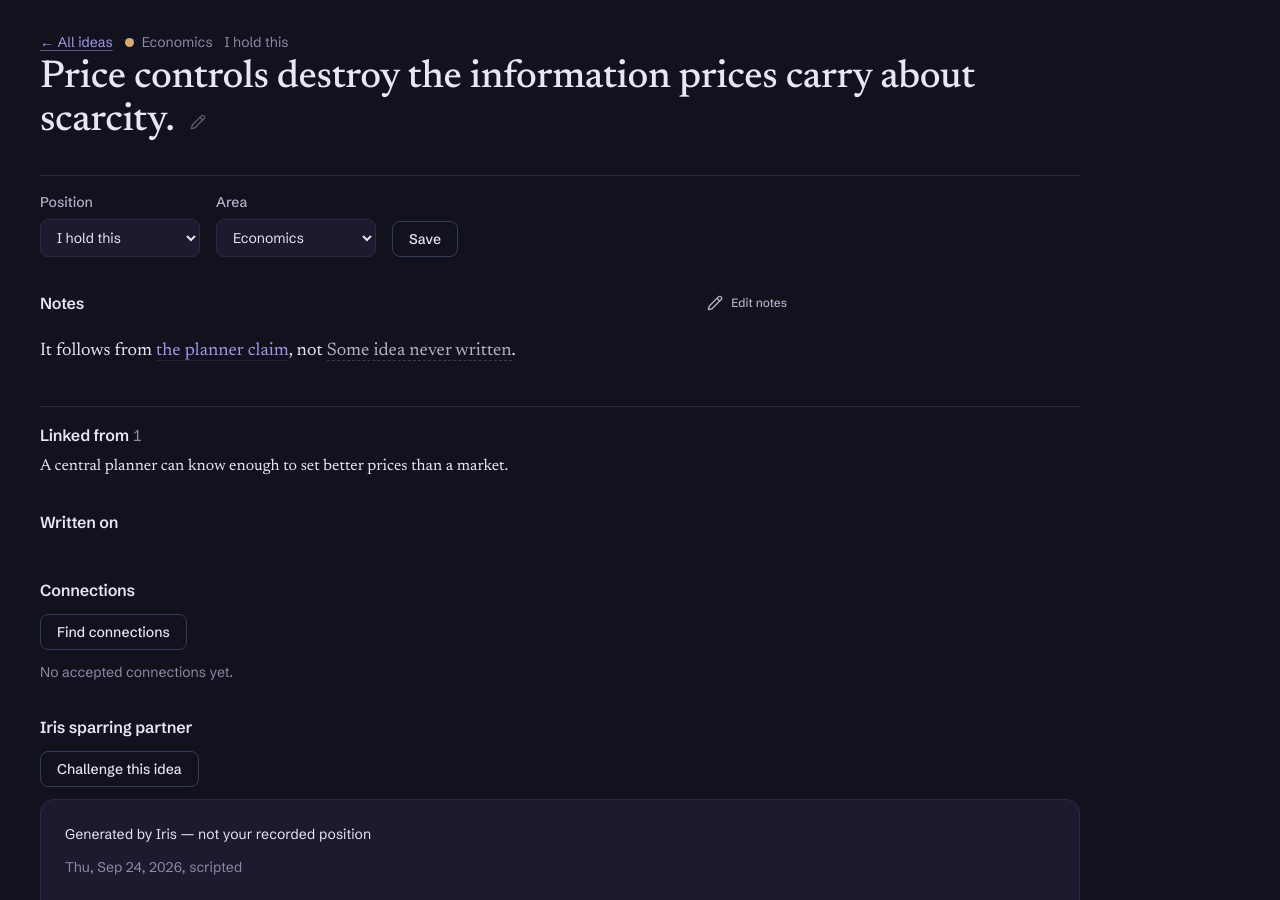
Test case: a proposed link between two ideas › keeps the old wording when renaming is cancelled
Click the button named "Rename this idea" at point(198, 122), box [182,106,214,138]
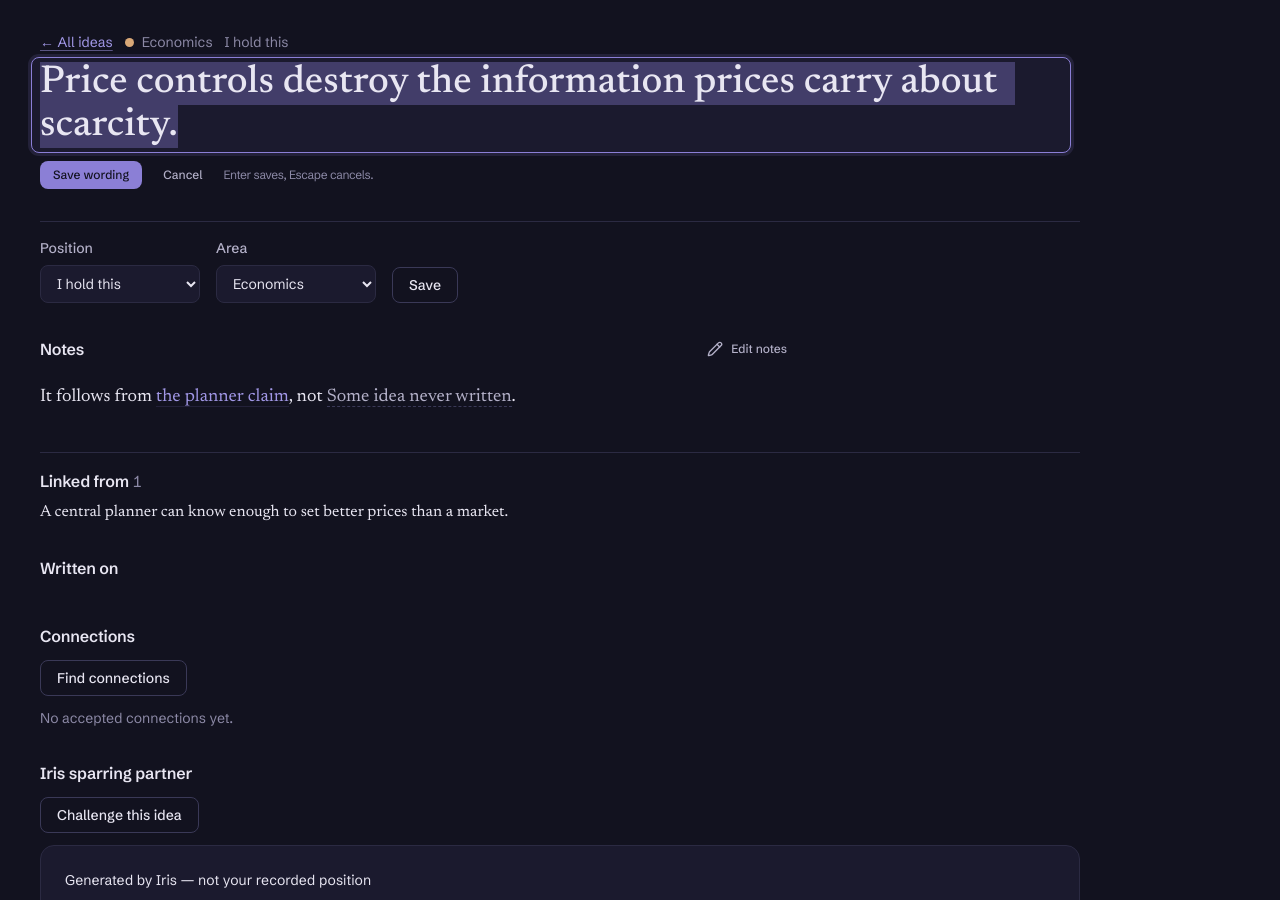
Press Escape in the text box named "Wording of this idea", box [31,57,1071,153]
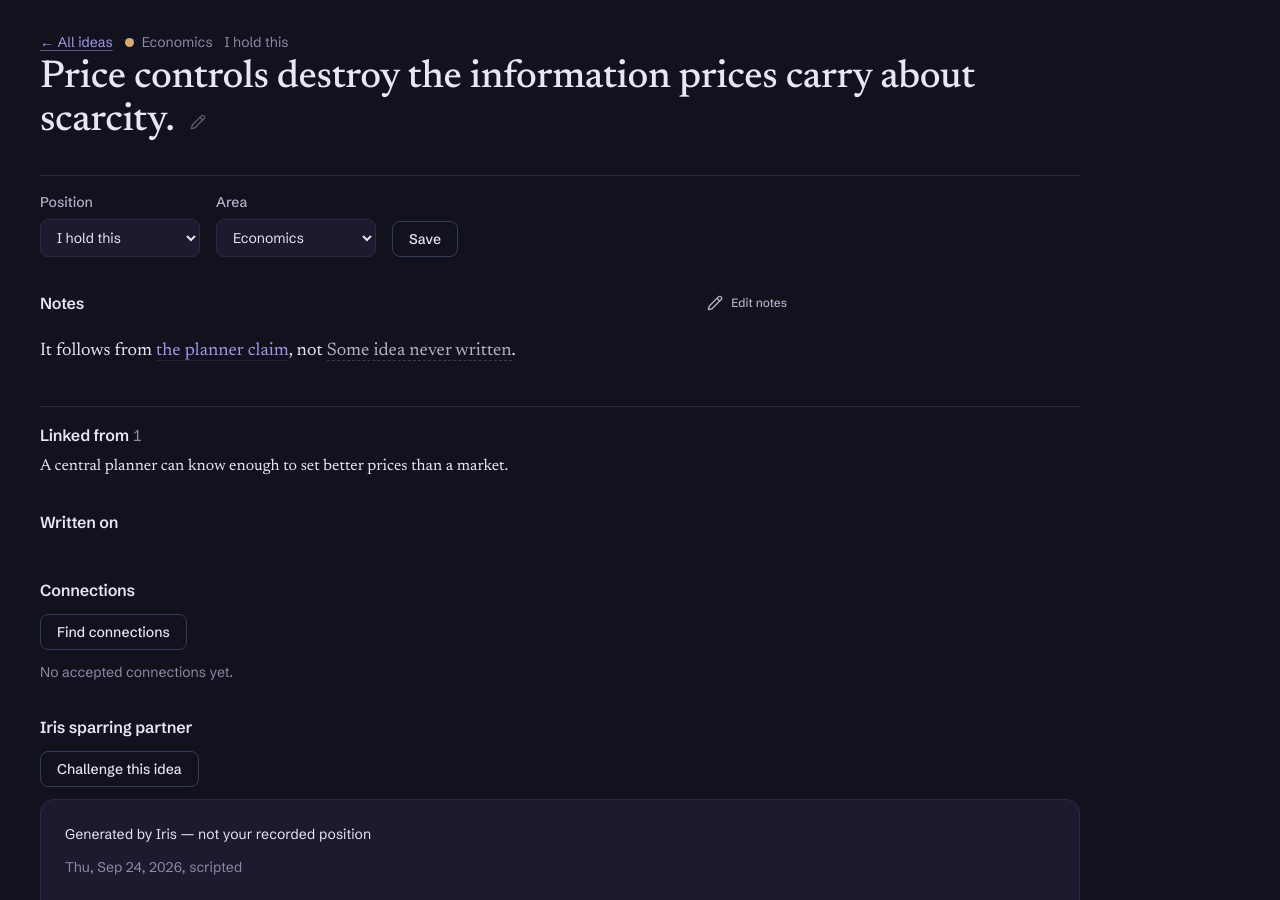
expect the 1st heading shows "Price controls destroy": met, box [40,58,975,140]
